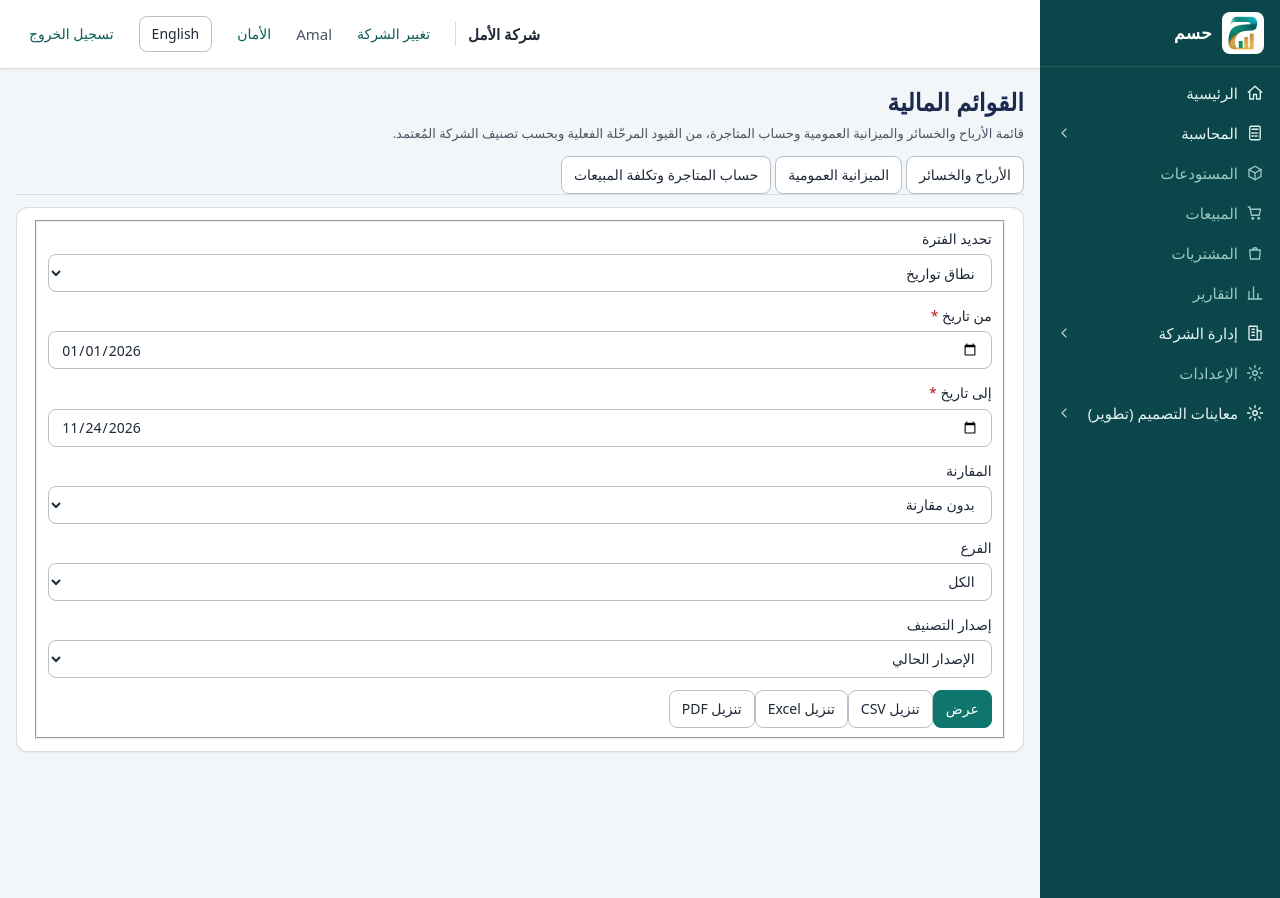
Test case: financial statements screen › shows comparative columns and the change, and says when no comparison exists
Expected: the element with test id "company-name" is shown, x1=455 y1=22 x2=540 y2=46
Select "السنة السابقة" in the dropdown labelled "المقارنة" at (520, 505), box x1=48 y1=486 x2=992 y2=524
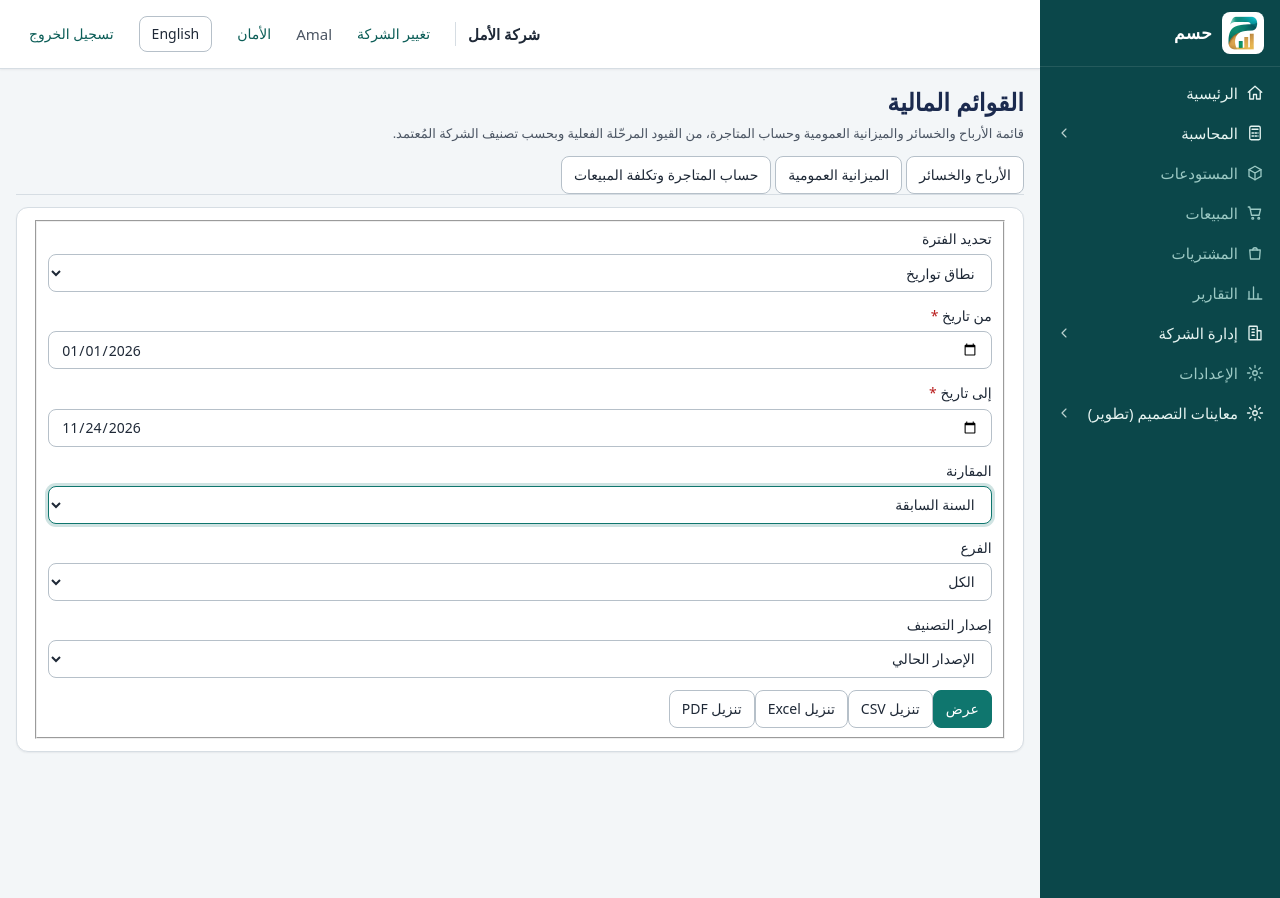
Click the button "عرض" at (962, 709), box x1=933 y1=690 x2=992 y2=728
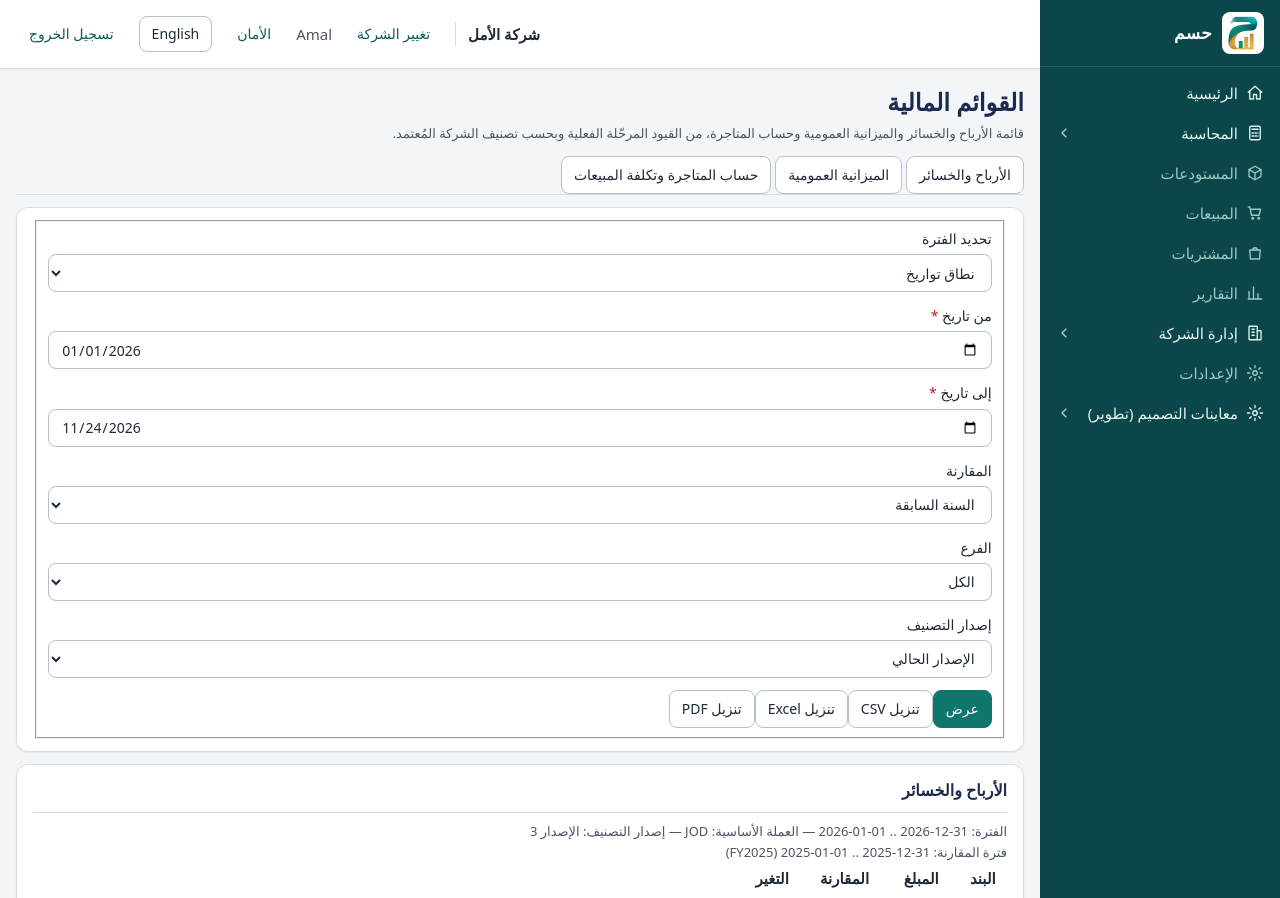
Expected: the element with test id "st-comparative-period" shows "2025-01-01 .. 2025-12-31", x1=781 y1=843 x2=930 y2=861
Click the button "عرض" at (962, 709), box x1=933 y1=690 x2=992 y2=728
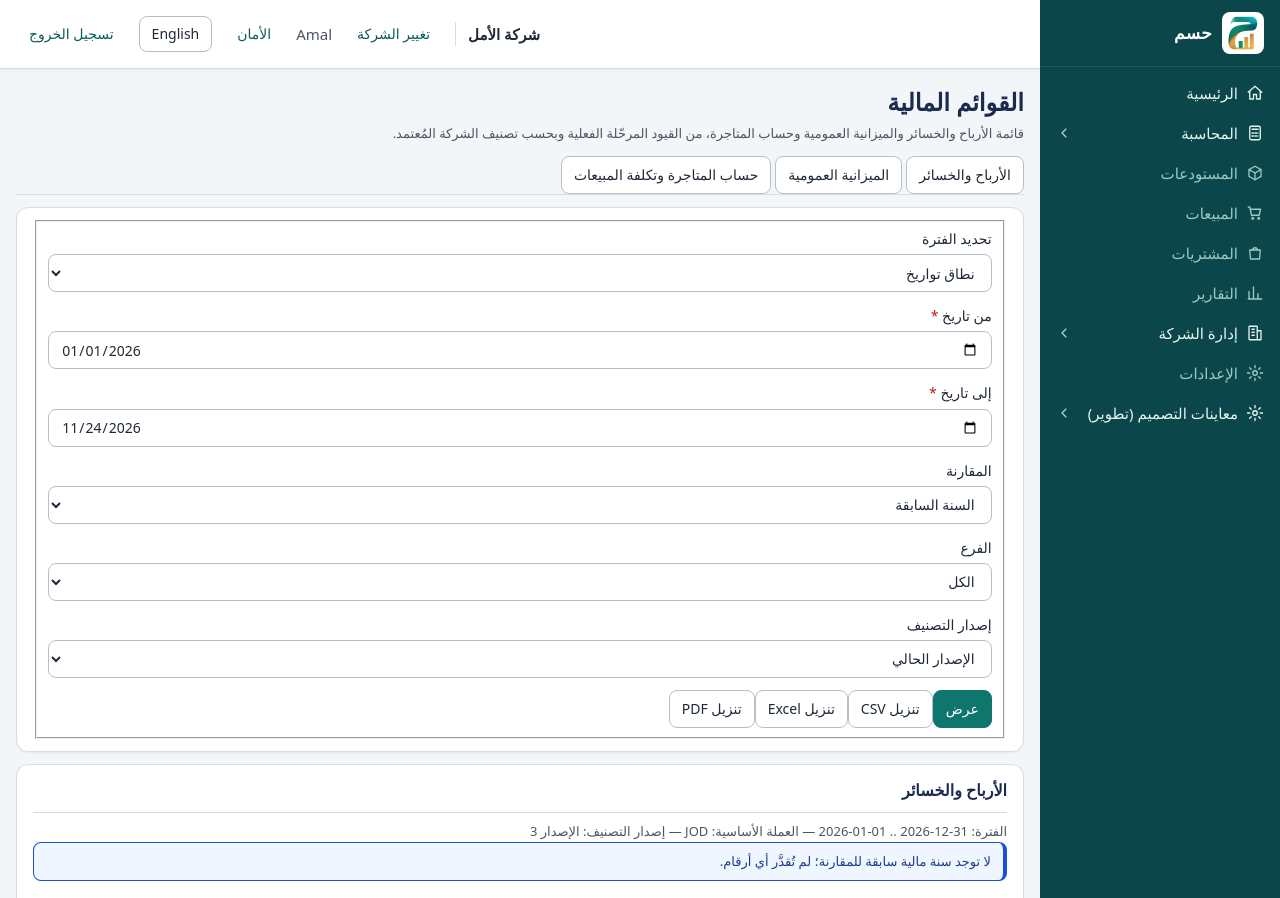
Expected: the message with test id "st-comparative-unavailable" reads "لا توجد سنة مالية سابقة للمقارنة؛ لم تُقدَّر أي أرقام.", x1=720 y1=852 x2=991 y2=870
